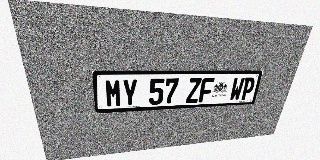5: (149, 78, 164, 105)
7: (163, 78, 179, 104)
F: (198, 78, 215, 102)
M: (104, 79, 122, 107)
P: (240, 77, 256, 100)
W: (229, 77, 245, 101)
Y: (122, 79, 138, 107)
Z: (186, 78, 202, 103)
